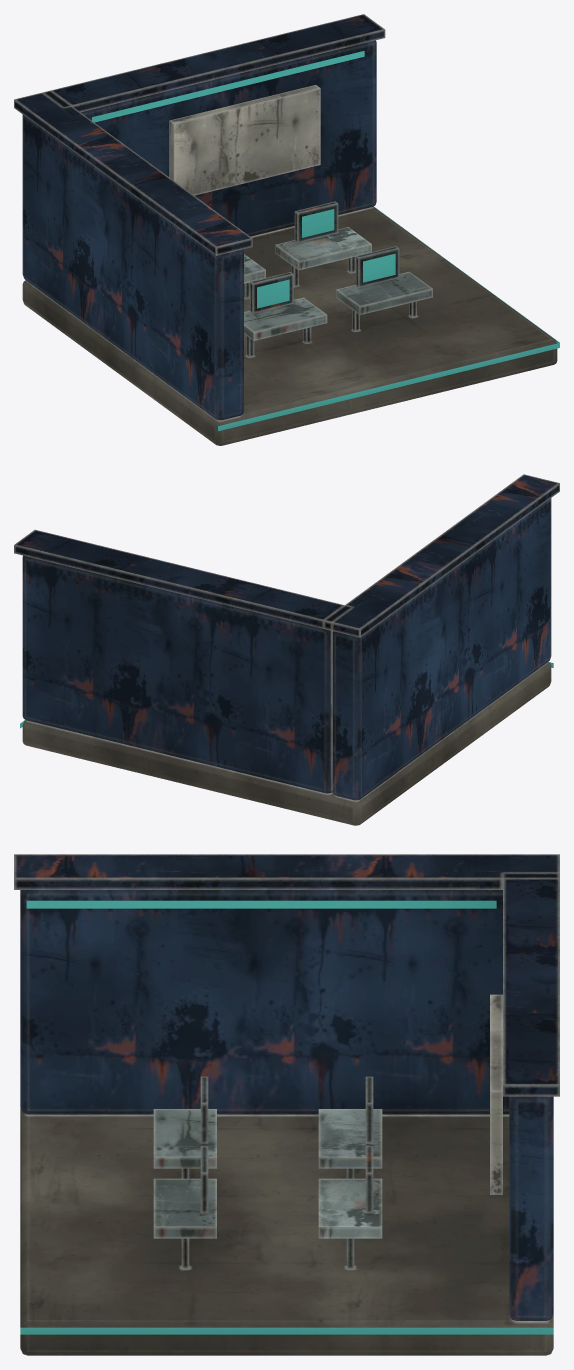
File: advanced_school.glb
The picture shows the model from 3 angles, top to bottom: view 1: azimuth 30°, elevation 25°; view 2: azimuth 150°, elevation 25°; view 3: azimuth 270°, elevation 25°; orthographic projection. The views are drawn at different scales.
Visible parts, largest first — view 1: te_advanced_school; view 2: te_advanced_school; view 3: te_advanced_school.
Boxes of the visible parts, <box> form: te_advanced_school: <box>14,14,559,445</box>; te_advanced_school: <box>14,474,559,825</box>; te_advanced_school: <box>14,854,559,1355</box>.
Bounding box in the file's own units: 0.86 × 0.48 × 0.86.
Materials: 1 (1 with a texture image).
